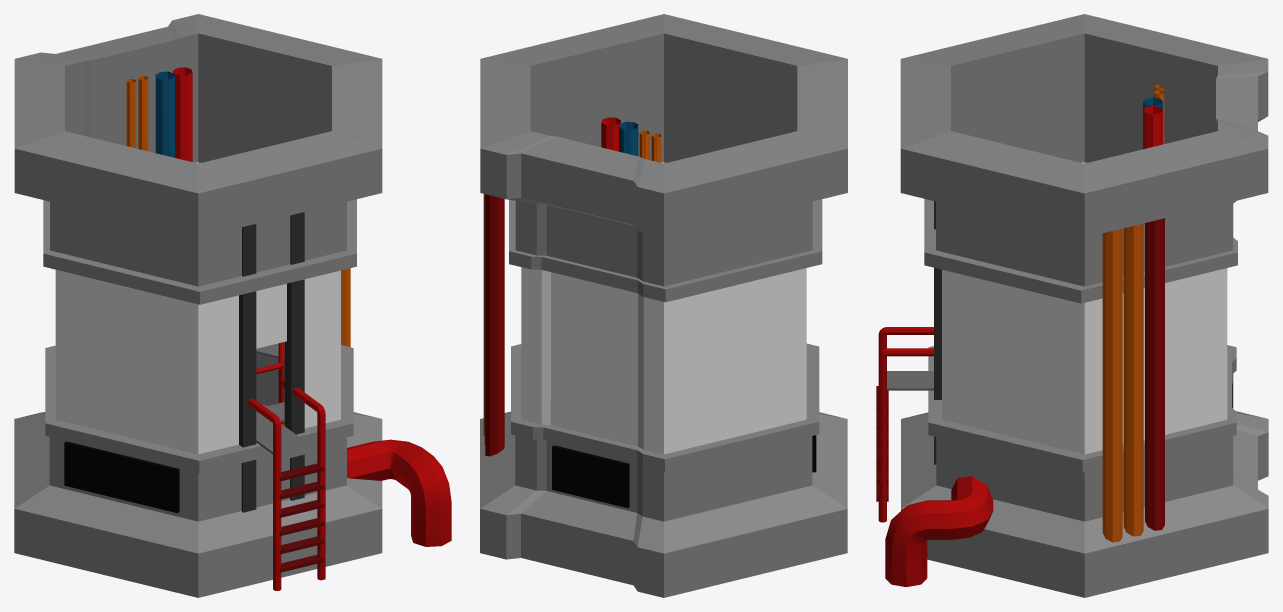
Rendered from Reactor.fbx.
3 views of the same model, side by side, from view 1: azimuth 30°, elevation 25°; view 2: azimuth 150°, elevation 25°; view 3: azimuth 270°, elevation 25° (orthographic).
Parts seen in each view (by area): view 1: Reactor; view 2: Reactor; view 3: Reactor.
Boxes of the visible parts, bbox=[...] form: Reactor: bbox=[14, 14, 451, 597]; Reactor: bbox=[480, 14, 847, 597]; Reactor: bbox=[876, 14, 1268, 597].
Bounding box in the file's own units: 10547 × 11274 × 9744.
